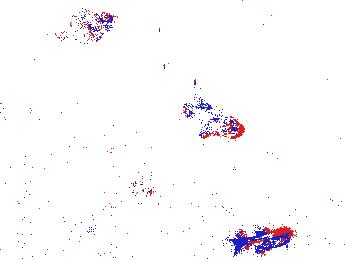X-ray fish: (51, 104, 110, 152), (58, 7, 118, 46), (131, 163, 162, 206)
red belly glassfish: (236, 227, 292, 250)
redtail glassfish: (176, 96, 246, 140)
